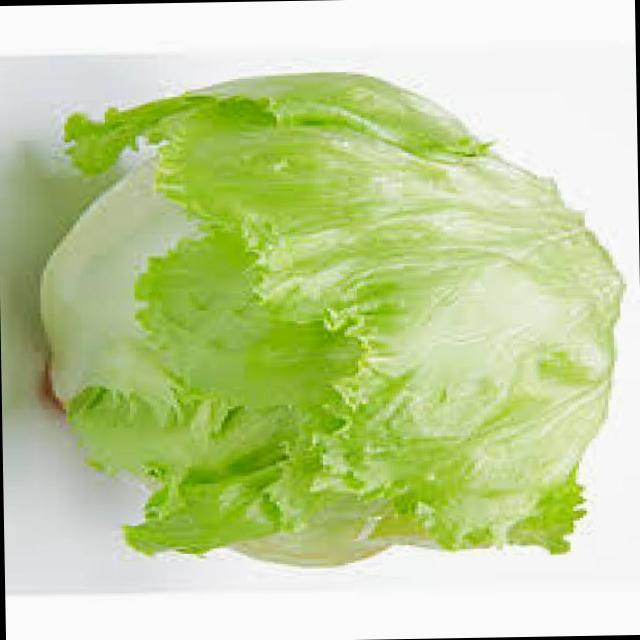Lettuce-Ready-to-Harvest: (42, 73, 622, 564)
